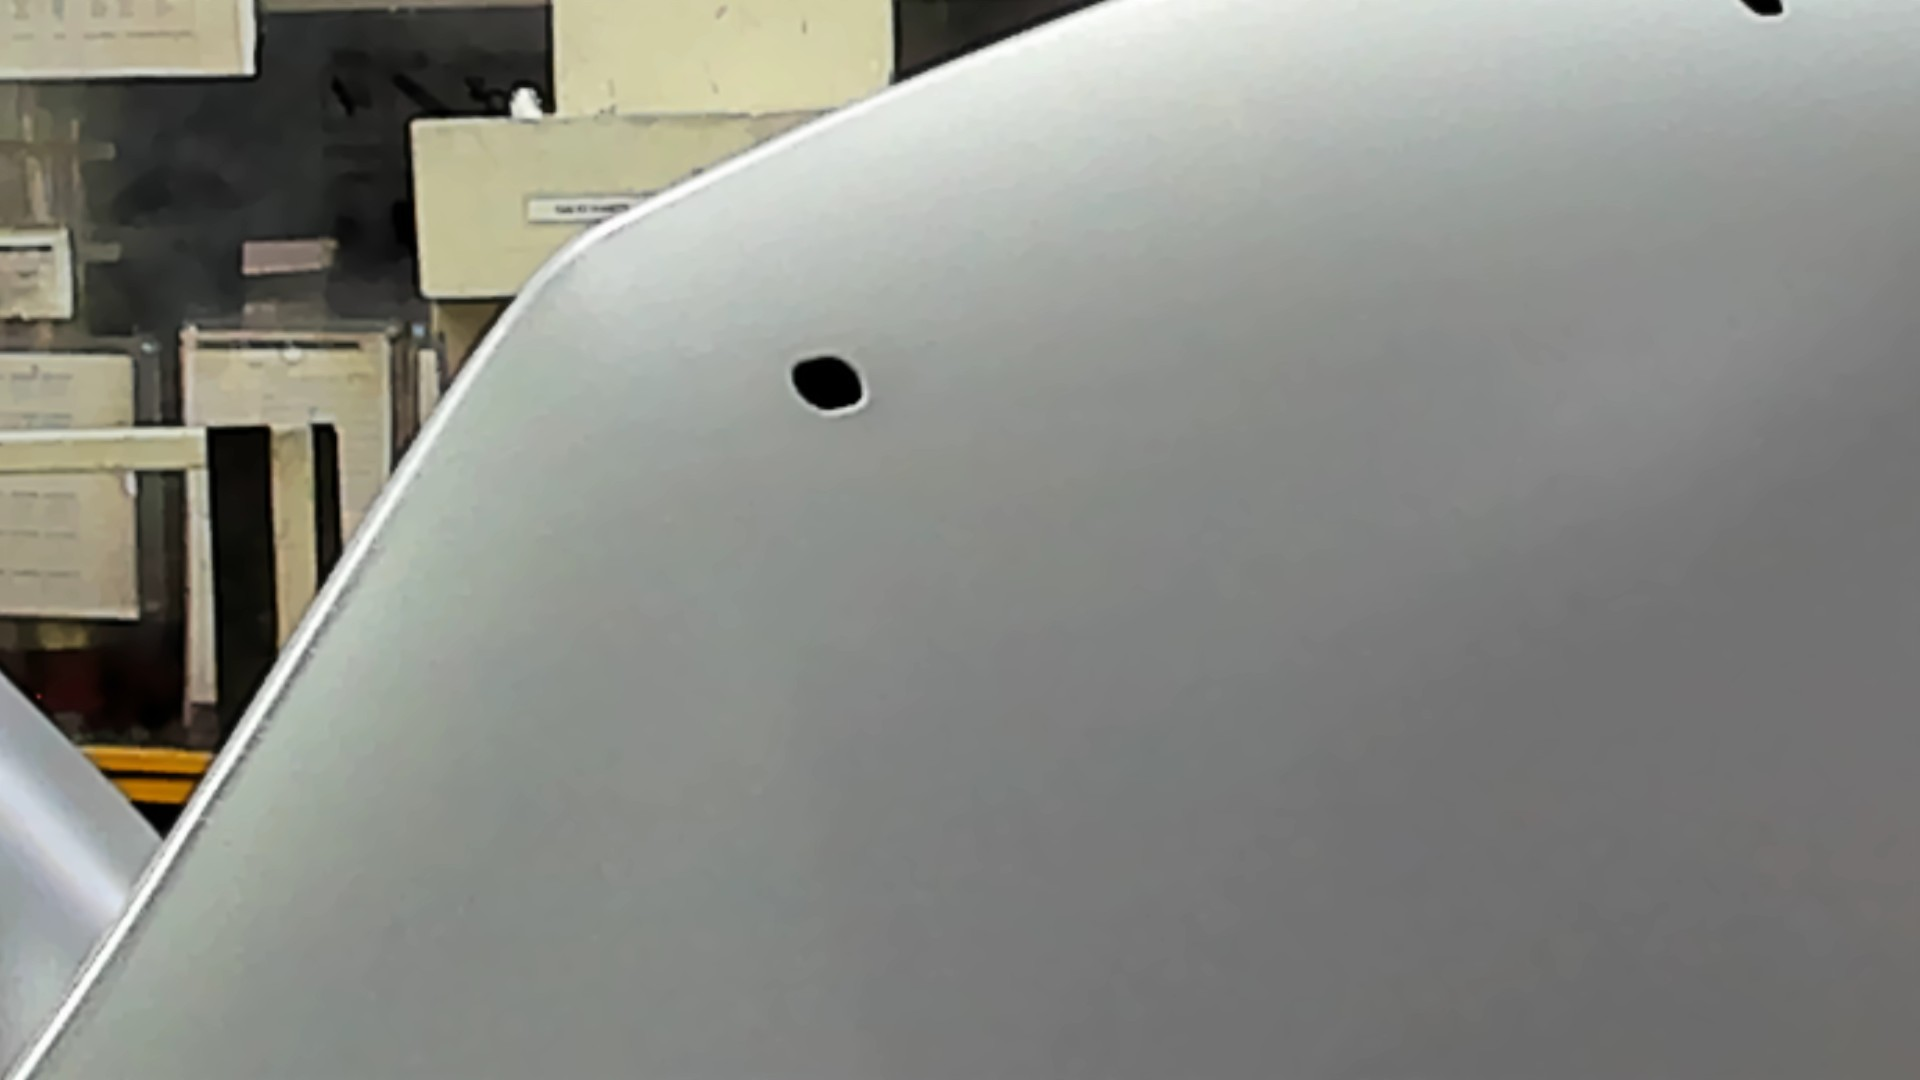amorfo: (785, 349, 876, 417), (1737, 1, 1795, 26)
